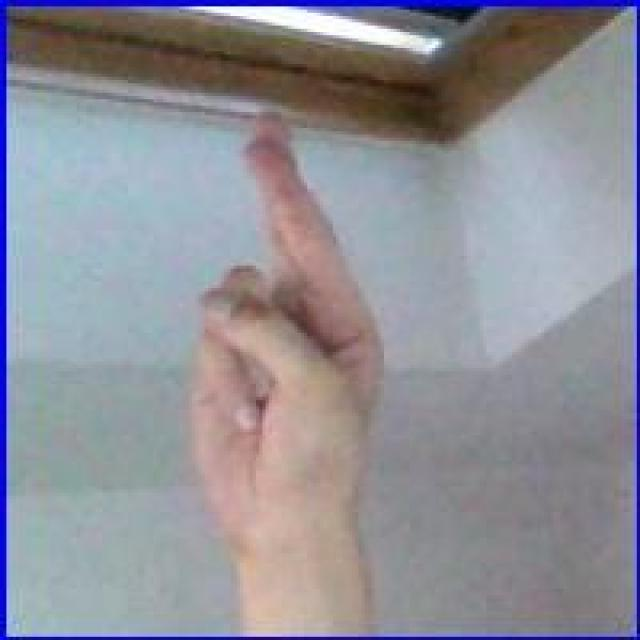R: (172, 102, 398, 528)
